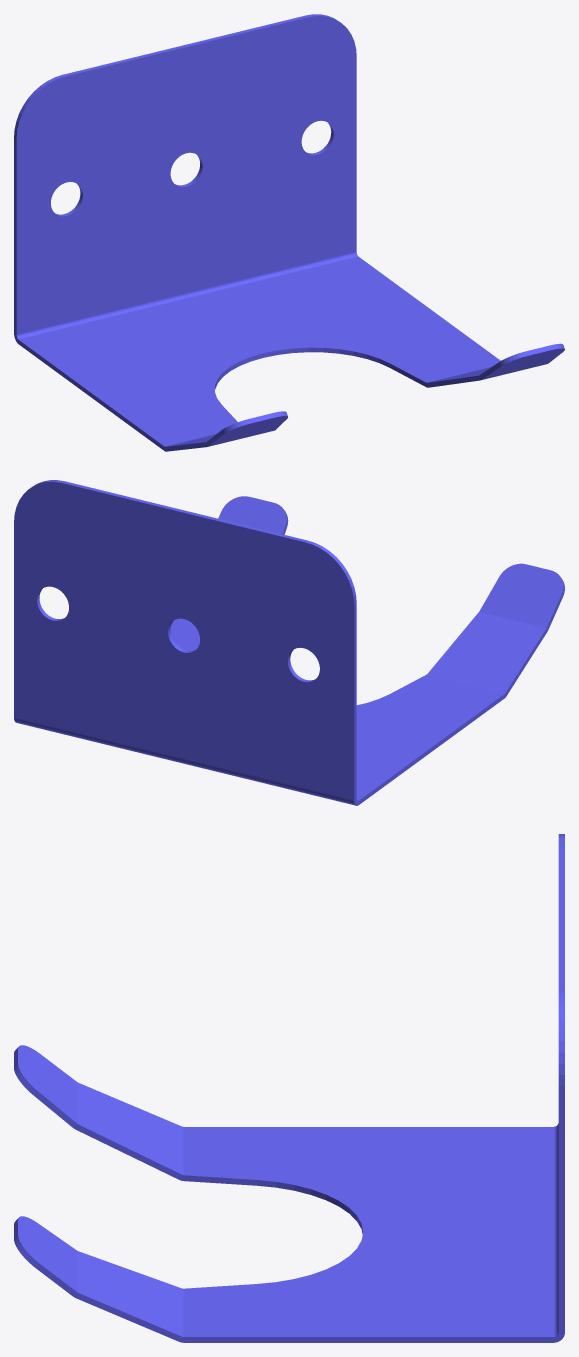
The model's file is PORTASCANERDEALUMINIO.obj.
The picture shows the model from 3 angles, top to bottom: view 1: azimuth 30°, elevation 25°; view 2: azimuth 150°, elevation 25°; view 3: azimuth 270°, elevation 25°; orthographic projection. The views are drawn at different scales.
Visible parts, largest first — view 1: mesh_0; view 2: mesh_0; view 3: mesh_0.
Boxes of the visible parts, x1,y1,x2,y2 form: mesh_0: (14,14,564,451); mesh_0: (14,480,564,805); mesh_0: (14,834,564,1342).
Size of the model in its own units: 70 by 50 by 77.54.
